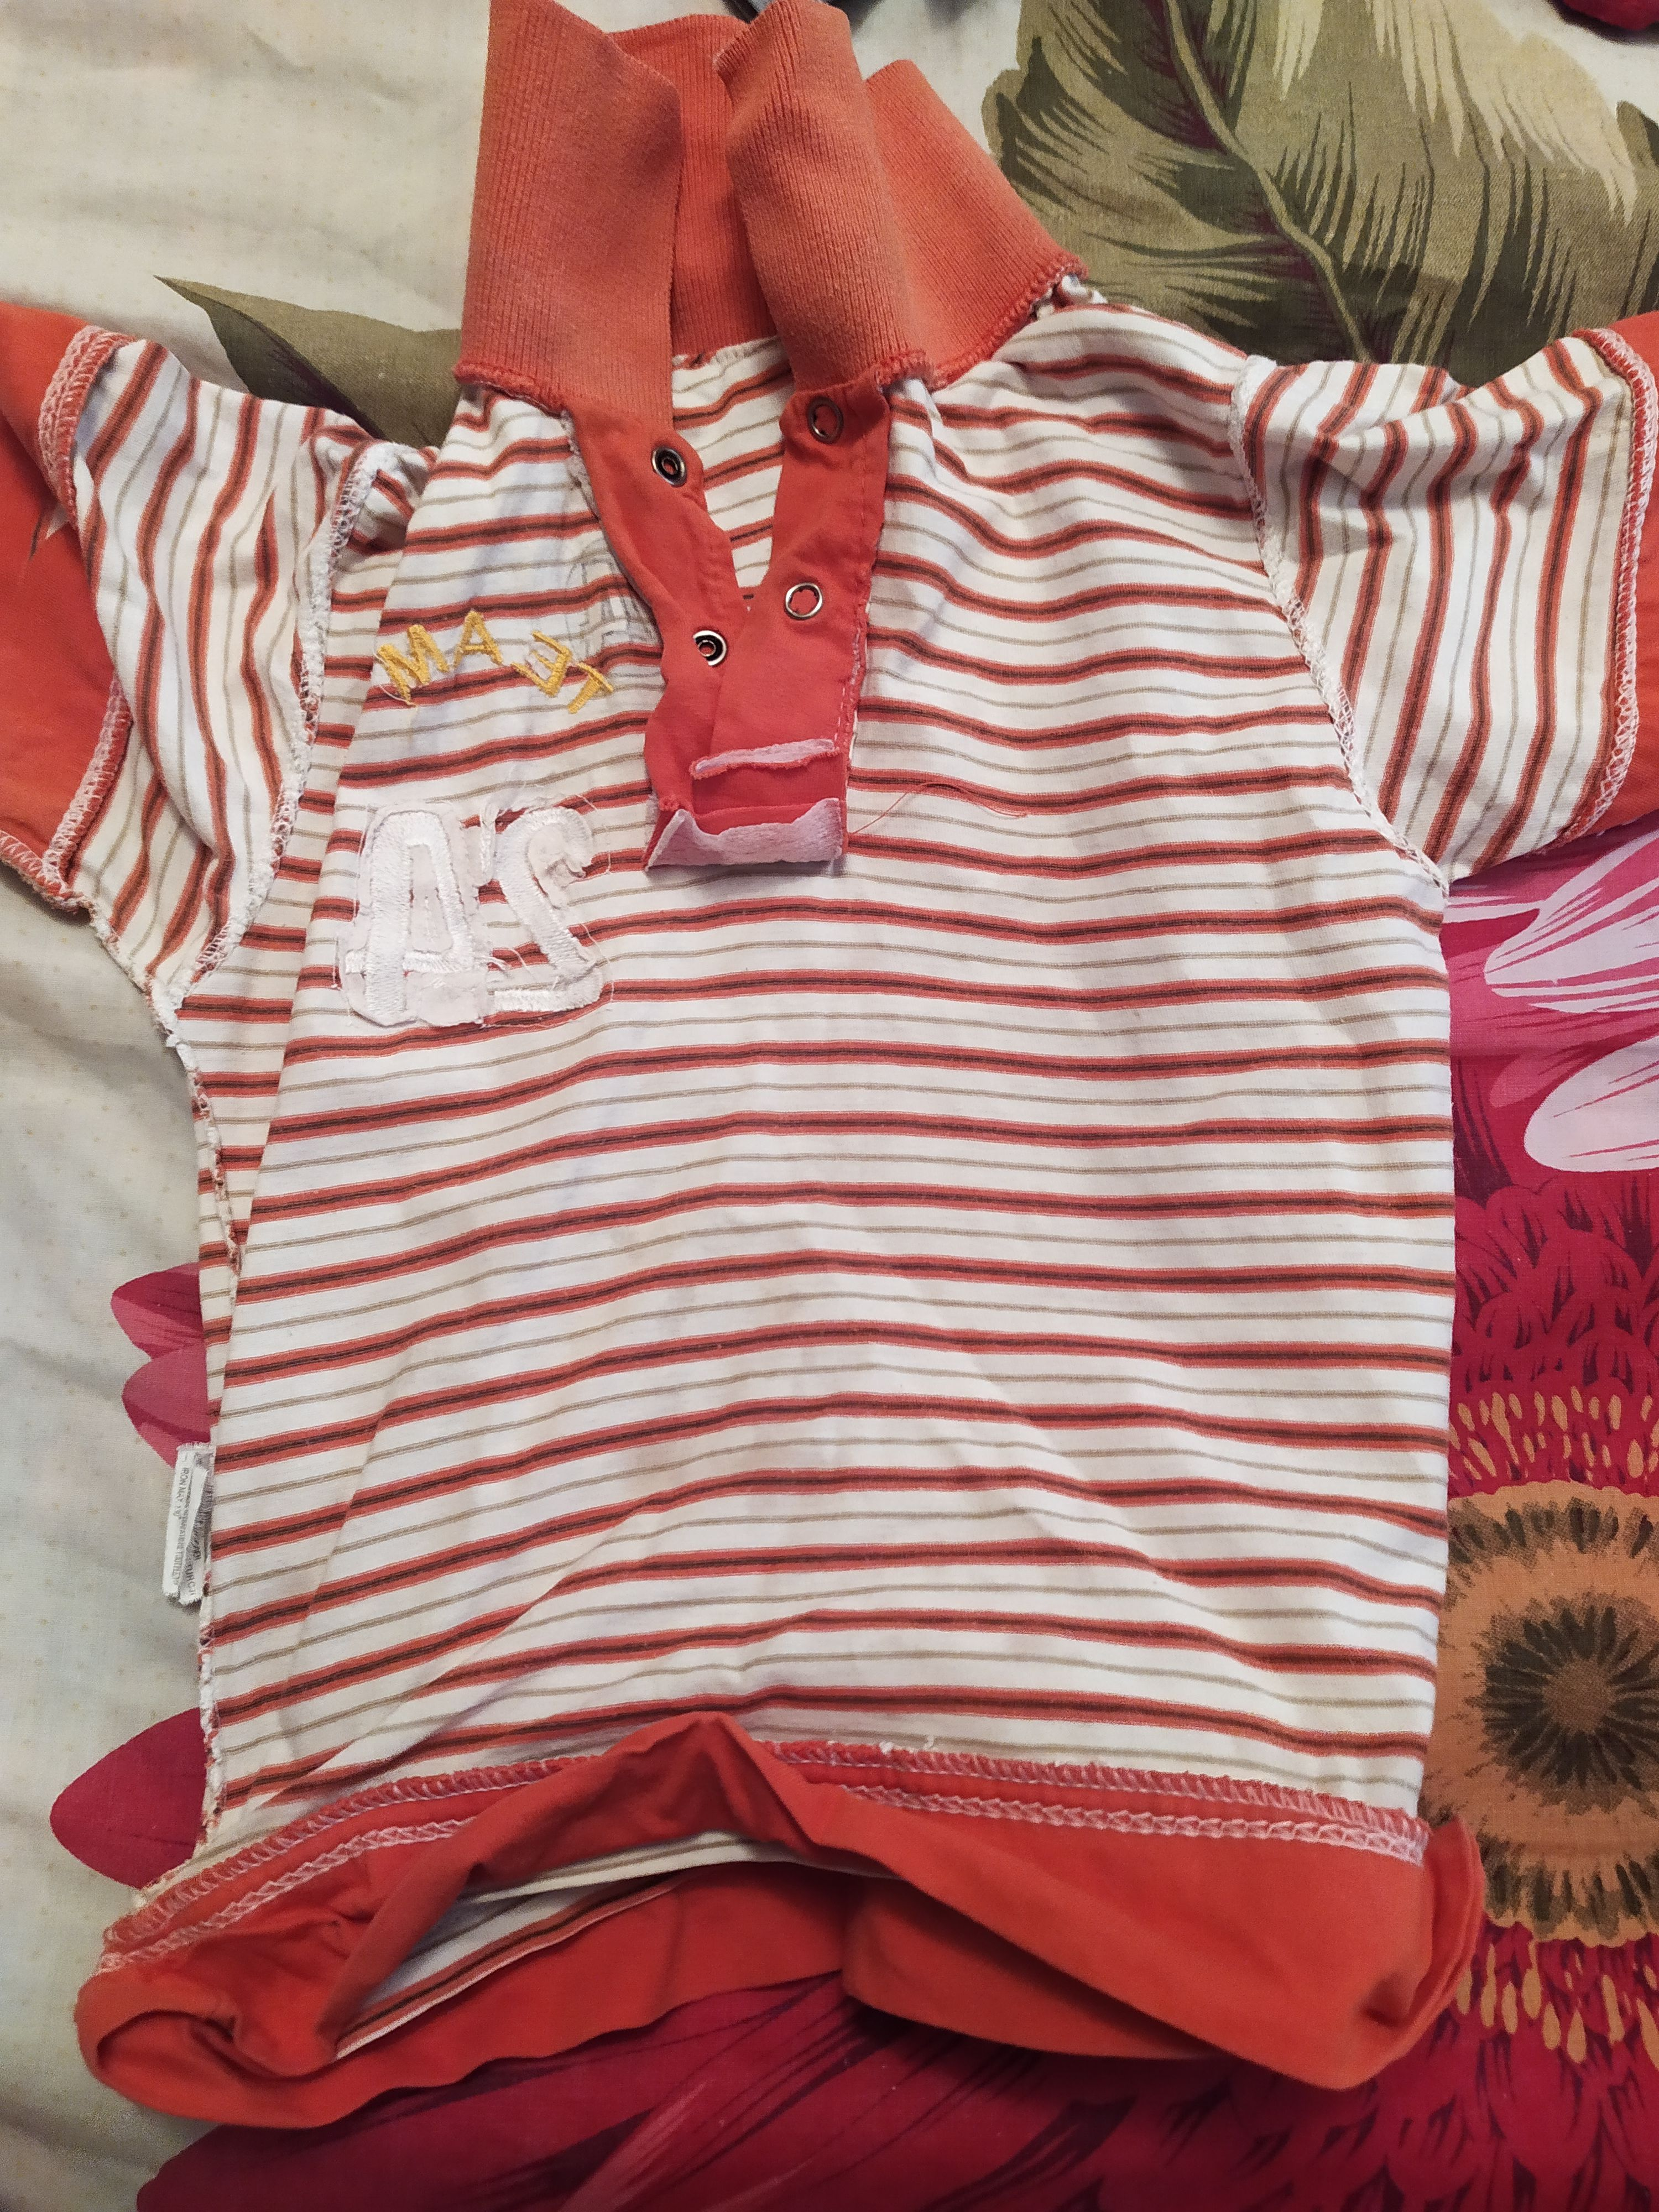clothes: (3, 0, 1659, 2088)
